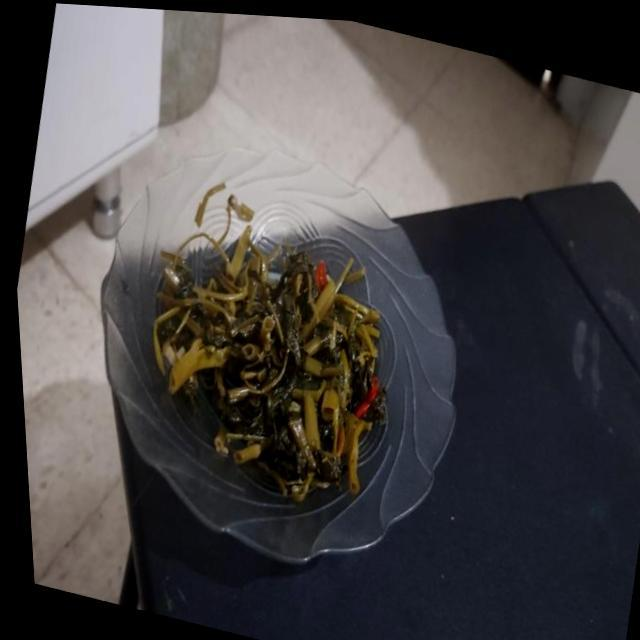tumis_kangkung: (154, 225, 386, 500)
